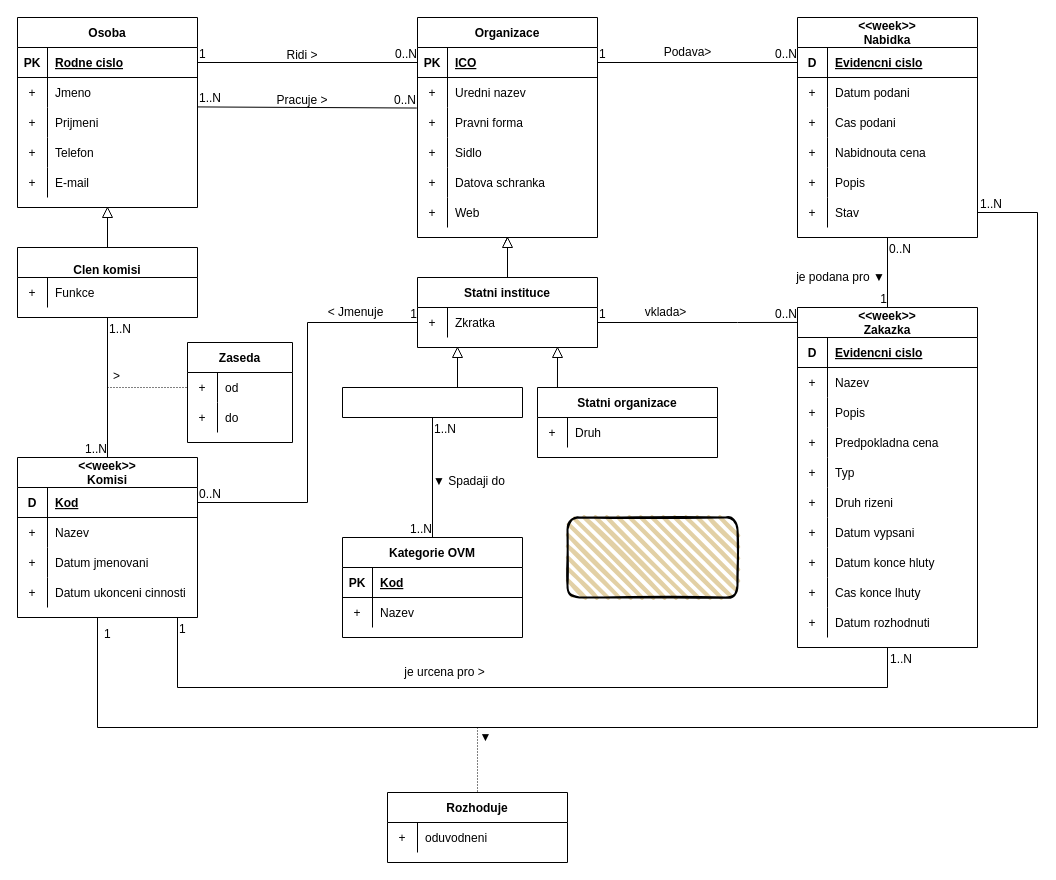
Image size: 1056x880. Some labels were removed from this diagram. Here are the shapes that lost their labels. From the top down, the centre of each, then its label:
(x=432, y=402): Organizacni slouzka statu*
(x=652, y=557): *Org slouzka statu po konvertace diagramu bude mit FK od kategorie OMV
